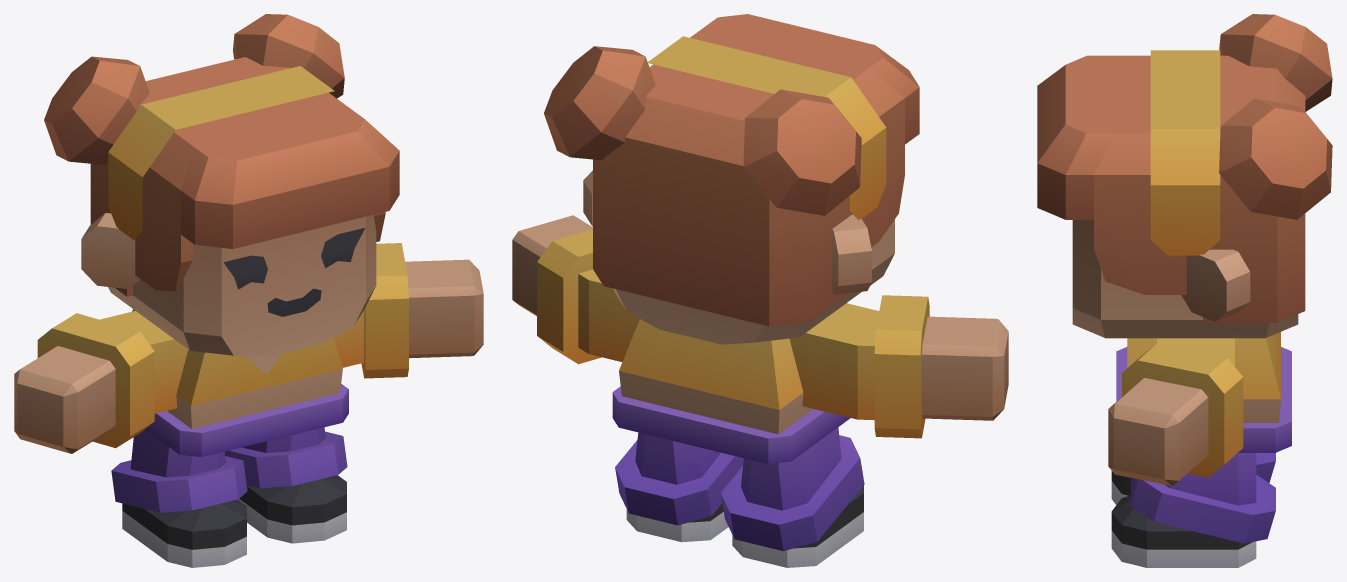
File: citizen-female-b.glb
3 views of the same model, side by side, from view 1: azimuth 30°, elevation 25°; view 2: azimuth 150°, elevation 25°; view 3: azimuth 270°, elevation 25° (orthographic). The views are drawn at different scales.
Visible parts, largest first — view 1: citizen-female-b; view 2: citizen-female-b; view 3: citizen-female-b.
Boxes of the visible parts, x1,y1,x2,y2 form: citizen-female-b: (14,14,483,567); citizen-female-b: (512,14,1008,567); citizen-female-b: (1037,14,1332,567).
Size of the model in its own units: 1.06 by 1 by 0.5786.
